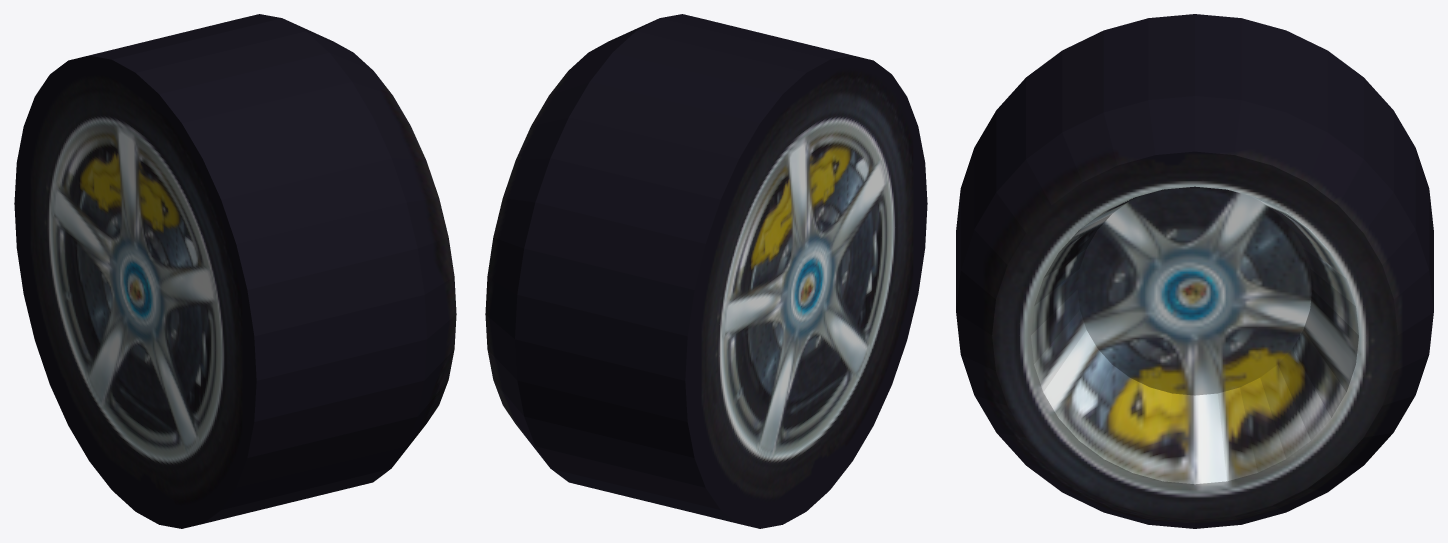
Rendered from carrera_rb.obj.
3 renders of one model, left to right at view 1: azimuth 30°, elevation 25°; view 2: azimuth 150°, elevation 25°; view 3: azimuth 270°, elevation 25°, orthographic.
Visible parts, largest first — view 1: obj0; view 2: obj0; view 3: obj0.
Part boxes in pixels (x1,y1,x2,y2): obj0: [14, 14, 456, 528]; obj0: [485, 14, 927, 528]; obj0: [956, 14, 1433, 528].
Bounding box in the file's own units: 0.3214 × 0.618 × 0.618.
